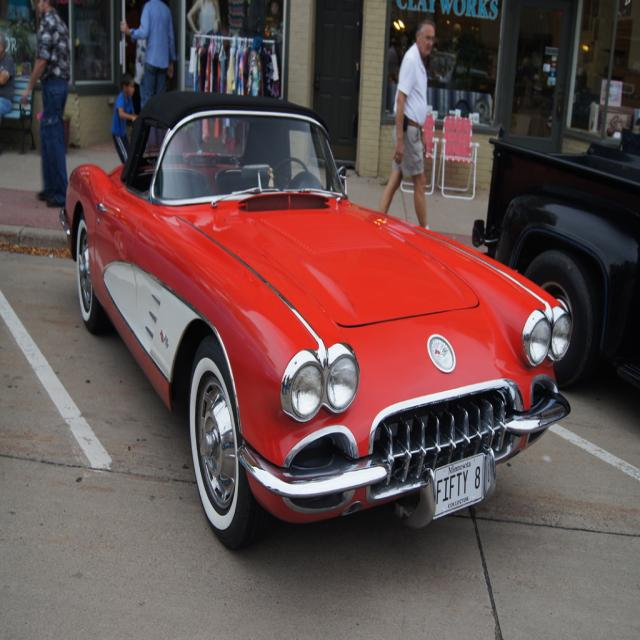car: (58, 84, 574, 548)
